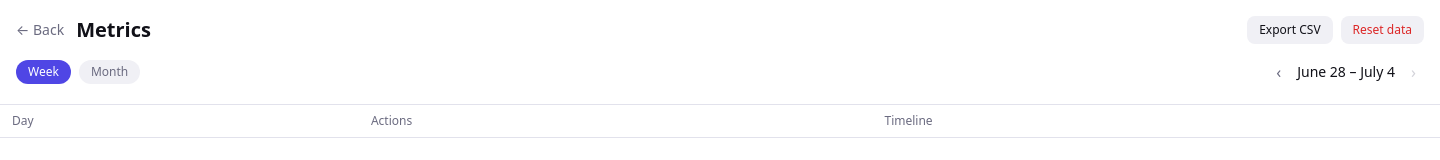
Test: MetricsView › previous period changes the label; next returns to current
This screenshot has width=1440, height=160.
Click the button named "previous period".
click(1279, 72)  # box [1268,56,1289,88]
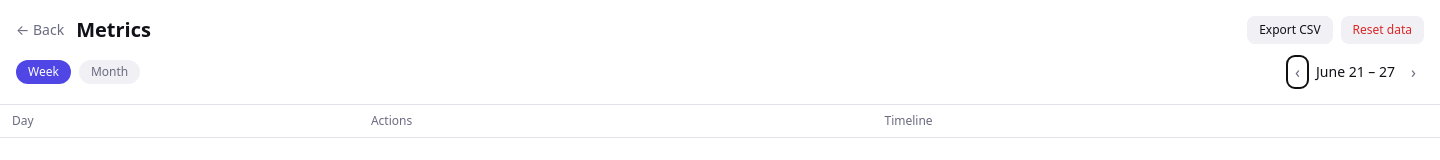
Expected: the text "–" no longer shows "June 28 – July 4"
Click the button named "next period".
click(1414, 72)  # box [1403,56,1424,88]
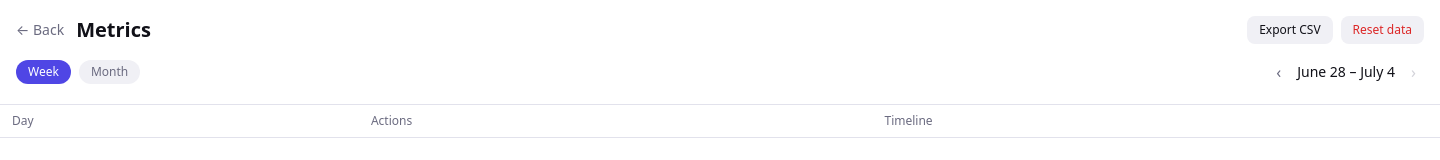
Expected: the text "June 28 – July 4" is shown, [1297,62,1395,82]
